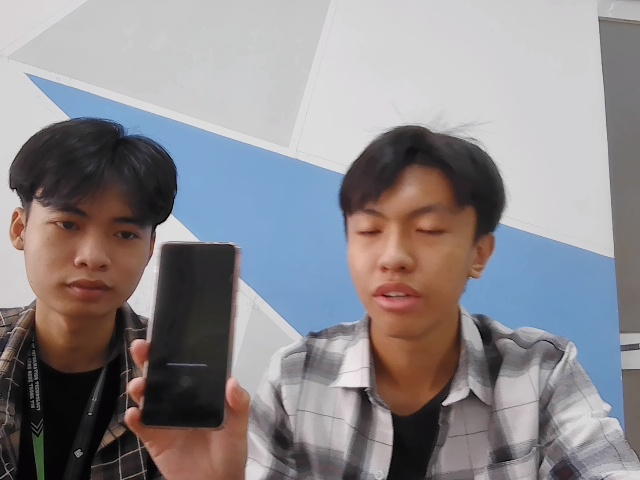human: (338, 122, 503, 328), (10, 114, 160, 313)
phone: (129, 240, 252, 429)
